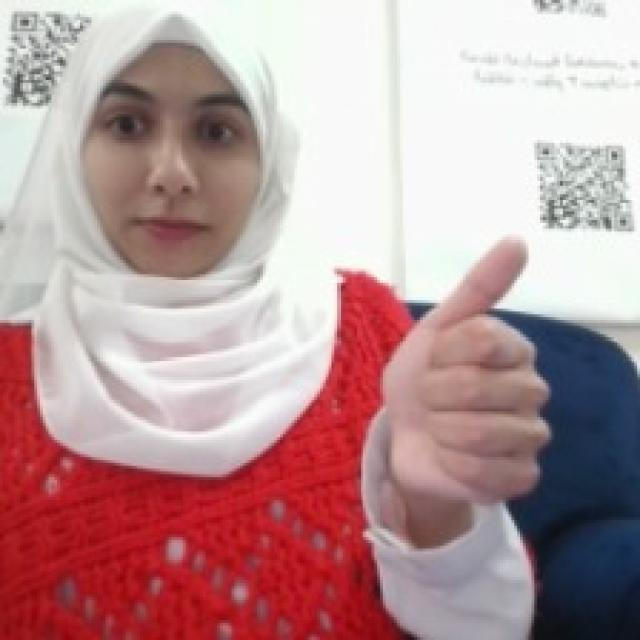fine: (372, 226, 557, 528)
